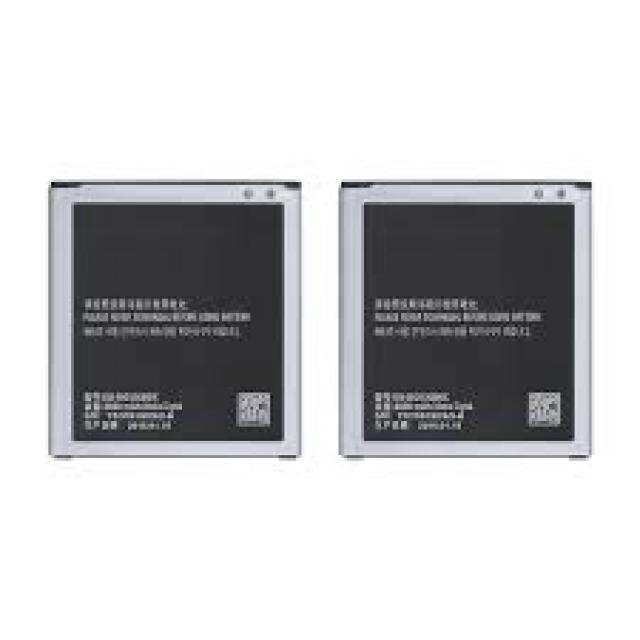non-organic waste: (335, 177, 596, 458), (43, 178, 304, 458)
